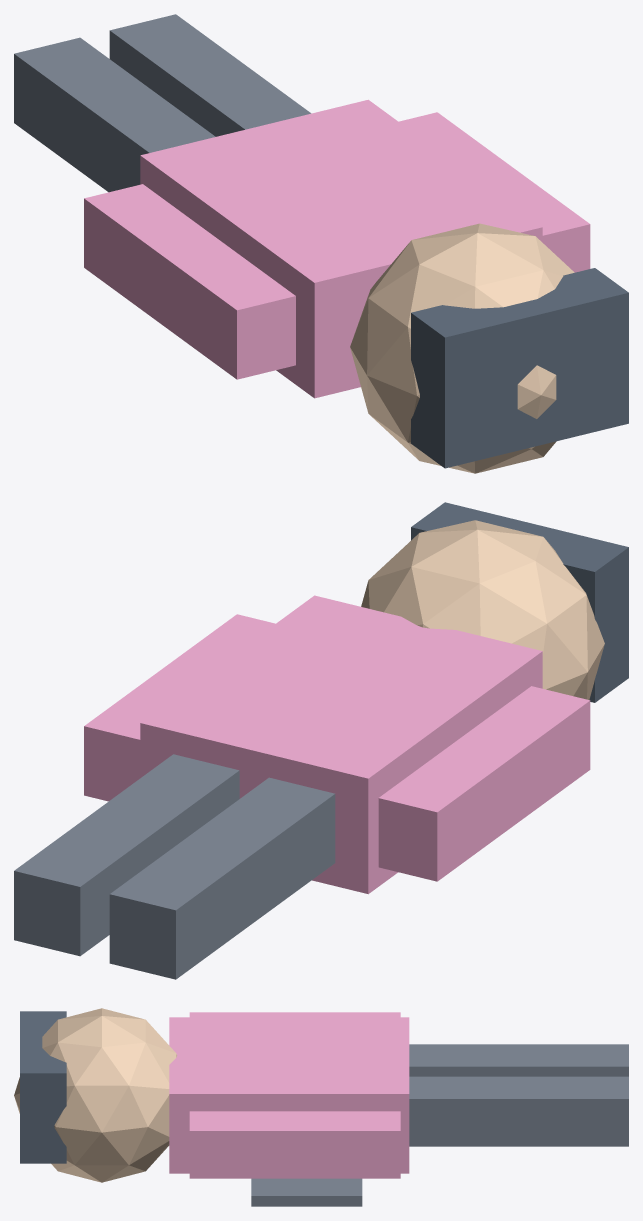
3 views of the same model, one above another, from view 1: azimuth 30°, elevation 25°; view 2: azimuth 150°, elevation 25°; view 3: azimuth 270°, elevation 25° (orthographic). The views are drawn at different scales.
Parts seen in each view (by area): view 1: torso_2, hair_6, arm_l_3, head_5, leg_l_0, leg_r_1, arm_r_4; view 2: torso_2, leg_l_0, arm_l_3, head_5, leg_r_1, arm_r_4, hair_6; view 3: torso_2, head_5, leg_r_1, arm_r_4, leg_l_0, hair_6, tablet_7, arm_l_3.
Boxes of the visible parts, box(x1,y1,x2,y2) form: torso_2: box(140, 99, 542, 398); hair_6: box(411, 268, 628, 468); arm_l_3: box(84, 184, 295, 379); head_5: box(350, 223, 574, 473); leg_l_0: box(14, 37, 215, 192); leg_r_1: box(109, 14, 311, 136); arm_r_4: box(399, 112, 590, 272); torso_2: box(140, 595, 542, 894); leg_l_0: box(109, 777, 335, 979); arm_l_3: box(378, 686, 590, 881); head_5: box(361, 520, 604, 699); leg_r_1: box(14, 754, 239, 956); arm_r_4: box(84, 614, 275, 801); hair_6: box(411, 502, 628, 702); torso_2: box(169, 1017, 409, 1173); head_5: box(14, 1008, 176, 1182); leg_r_1: box(409, 1076, 628, 1146); arm_r_4: box(189, 1111, 400, 1178); leg_l_0: box(409, 1044, 628, 1076); hair_6: box(20, 1011, 66, 1163); tablet_7: box(251, 1178, 362, 1206); arm_l_3: box(189, 1012, 400, 1017).
Size of the model in its own units: 0.96 by 0.6 by 2.1.
